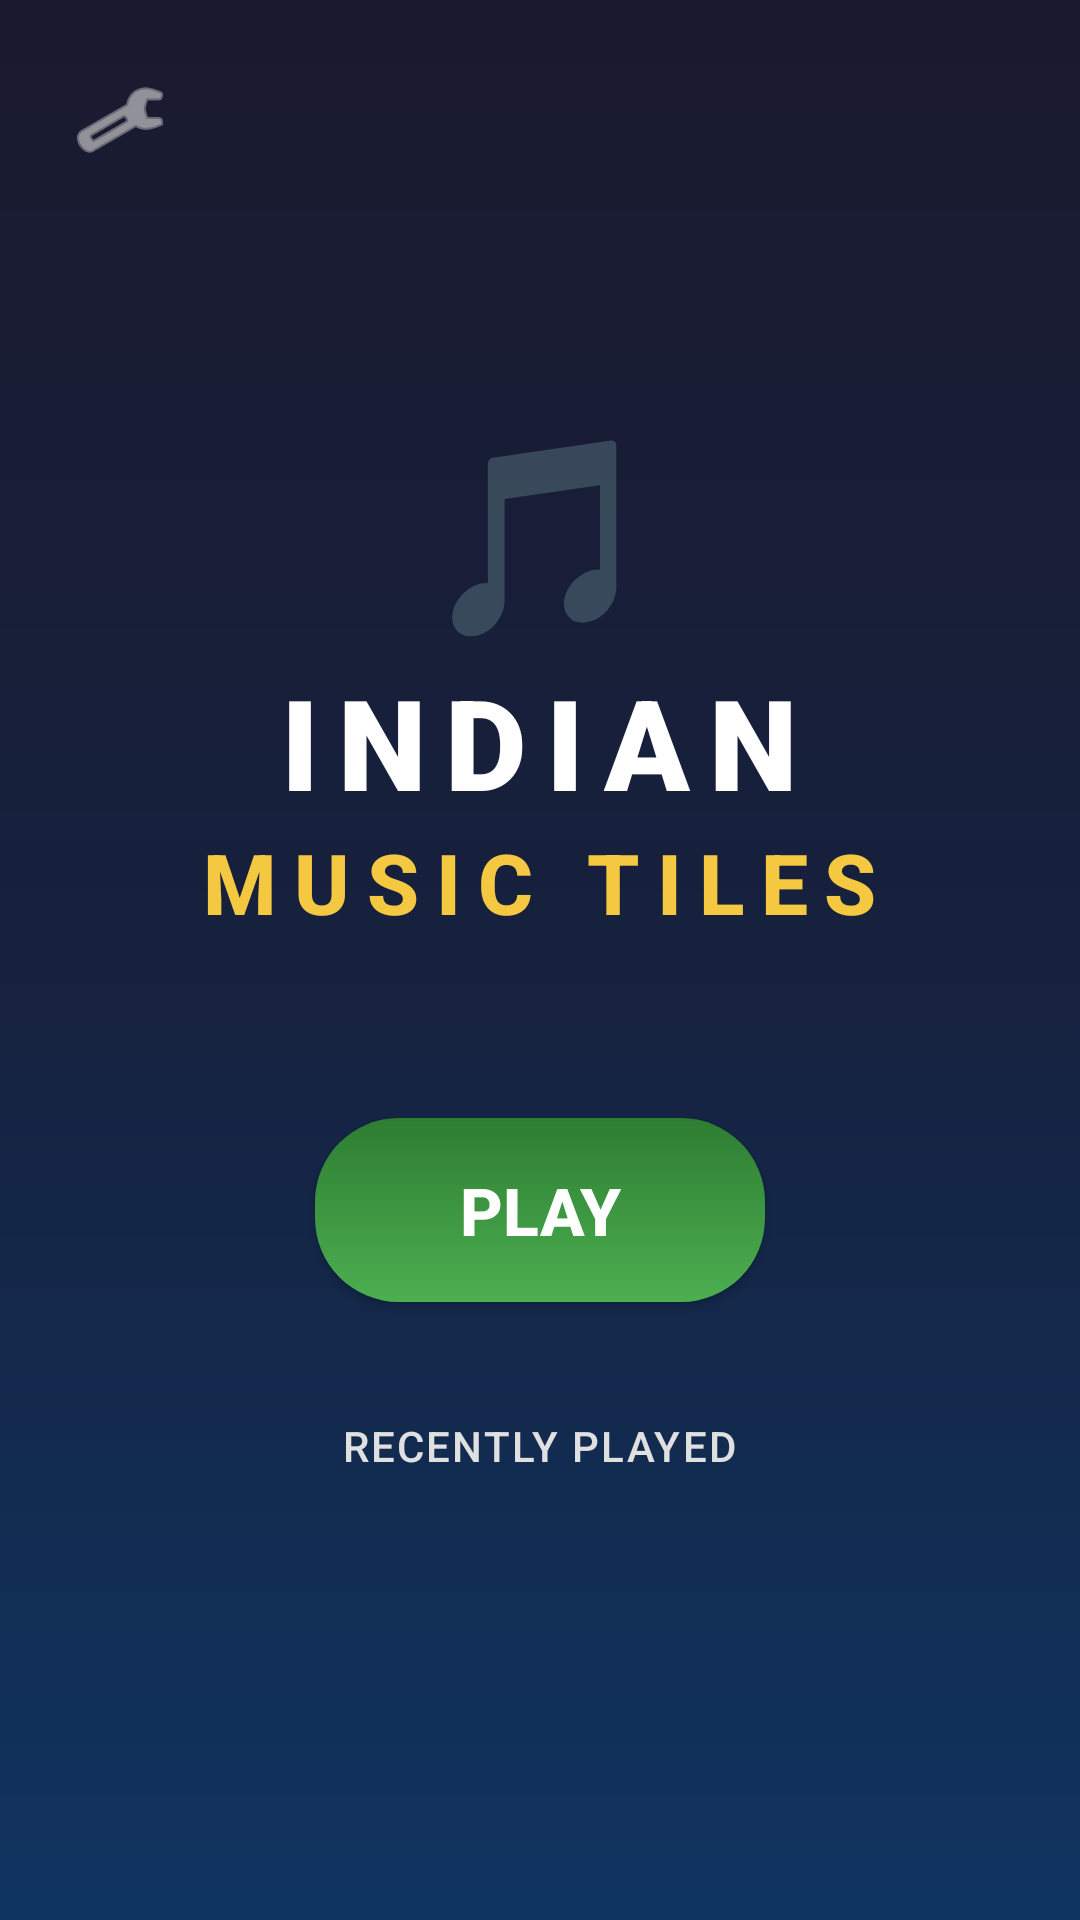

Named icons in this screenshot (1080×1920) and their bounding boxes, (x1, y1, x2, y2):
Settings: (77, 87, 163, 153)
